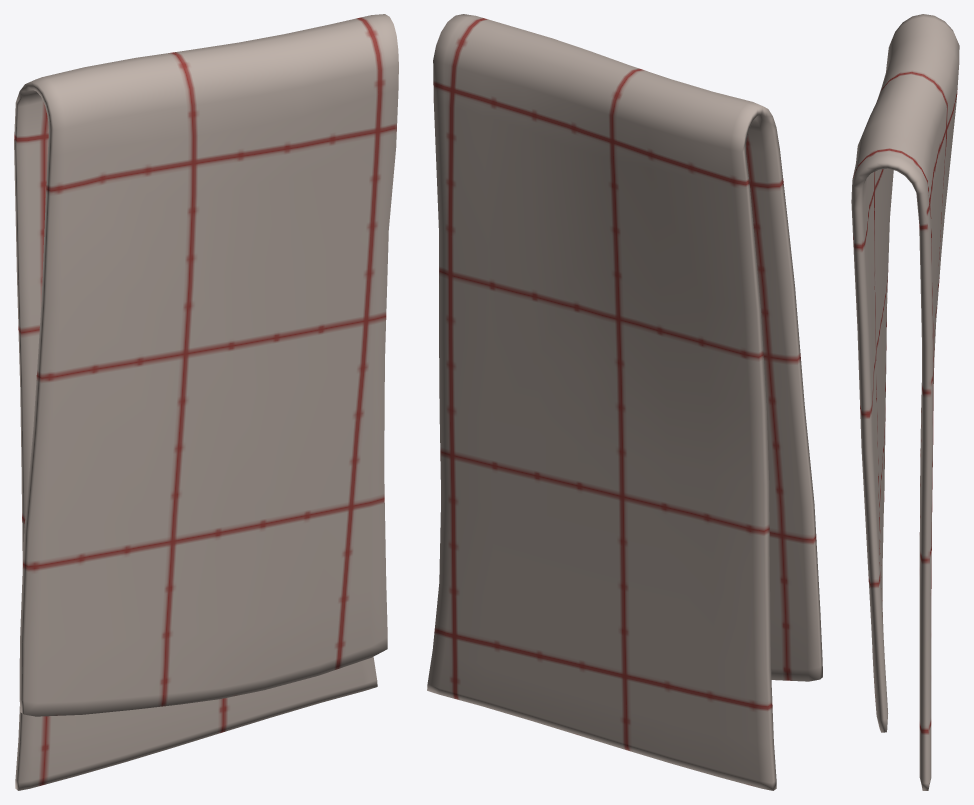
Rendered from SM_Curtain_Towels_Towel_A.fbx.
3 renders of one model, left to right at view 1: azimuth 30°, elevation 25°; view 2: azimuth 150°, elevation 25°; view 3: azimuth 270°, elevation 25°, orthographic. The views are drawn at different scales.
Parts seen in each view (by area): view 1: SM_Curtain_Towels_Towel_A_LOD0; view 2: SM_Curtain_Towels_Towel_A_LOD0; view 3: SM_Curtain_Towels_Towel_A_LOD0.
Boxes of the visible parts, left/top/right/bottom form: SM_Curtain_Towels_Towel_A_LOD0: left=14, top=14, right=398, bottom=790; SM_Curtain_Towels_Towel_A_LOD0: left=427, top=14, right=822, bottom=790; SM_Curtain_Towels_Towel_A_LOD0: left=851, top=14, right=959, bottom=790.
Bounding box in the file's own units: 18.18 × 4.9 × 32.09.
1 material, 1 textured.
